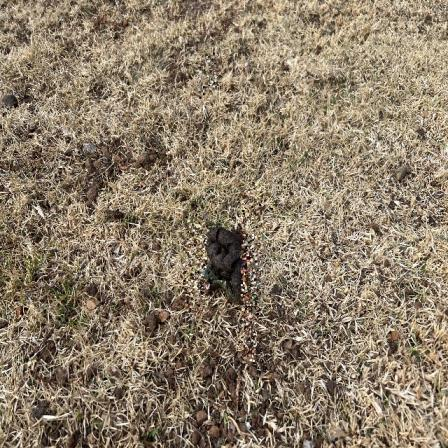dog-poop: (197, 221, 256, 304)
